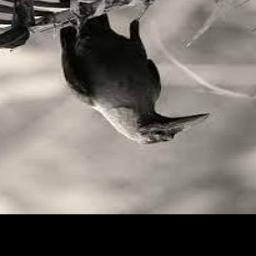Crow: (59, 0, 211, 145)
